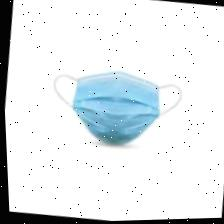mask: (40, 54, 182, 164)
